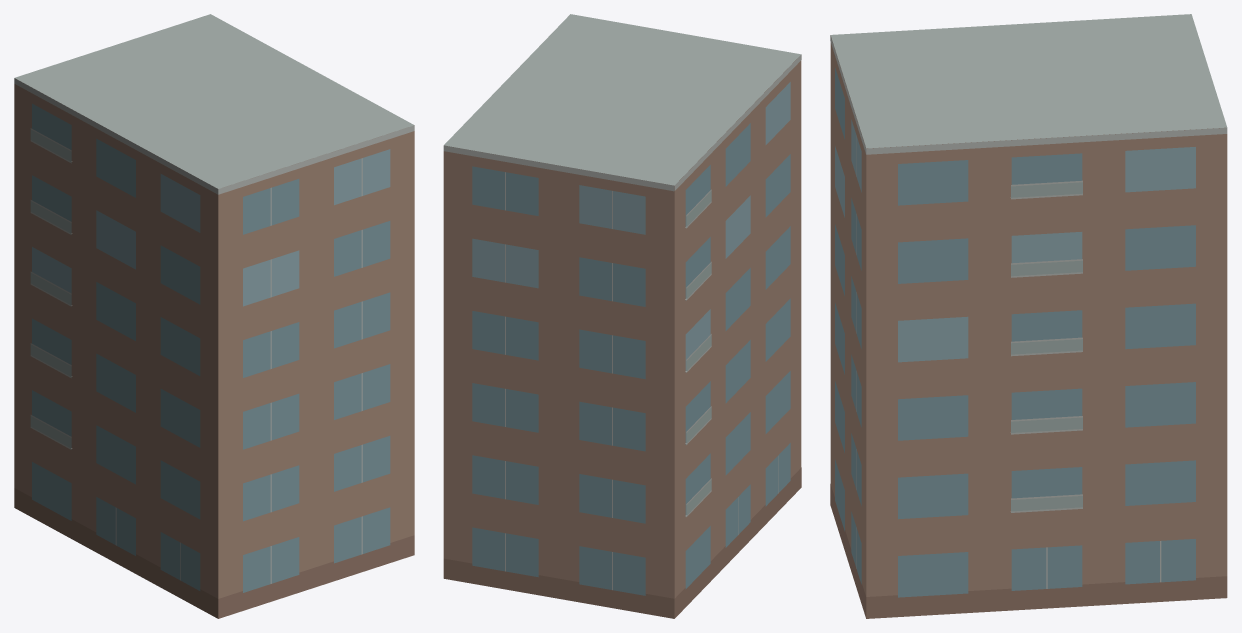
The model's file is survey-upis-32978227.glb.
The picture shows the model from 3 angles, left to right: view 1: azimuth 30°, elevation 25°; view 2: azimuth 150°, elevation 25°; view 3: azimuth 270°, elevation 25°; orthographic projection. The views are drawn at different scales.
Parts seen in each view (by area): view 1: survey-upis-32978227.tmp; view 2: survey-upis-32978227.tmp; view 3: survey-upis-32978227.tmp.
Boxes of the visible parts, left/top/right/bottom form: survey-upis-32978227.tmp: left=14, top=14, right=414, bottom=618; survey-upis-32978227.tmp: left=443, top=14, right=801, bottom=618; survey-upis-32978227.tmp: left=830, top=14, right=1227, bottom=618.
Size of the model in its own units: 11.23 by 18.3 by 14.
